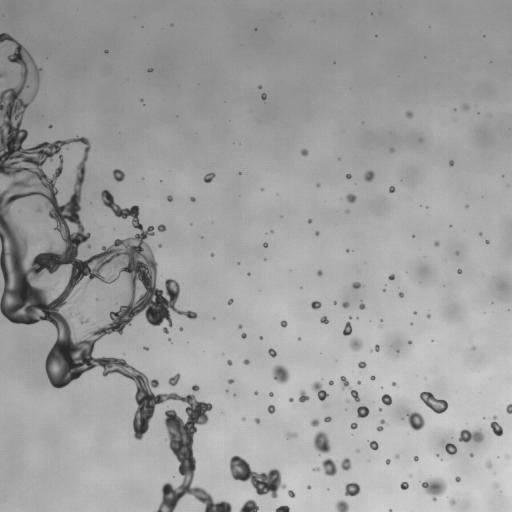droplet: (421, 477, 446, 501), (420, 392, 447, 413), (313, 431, 330, 454), (406, 411, 424, 430), (272, 364, 289, 383), (321, 458, 337, 476), (238, 499, 258, 511), (345, 483, 360, 496), (349, 337, 362, 350), (76, 313, 89, 325), (169, 373, 180, 386), (335, 500, 348, 511), (113, 169, 124, 181), (203, 172, 215, 183), (298, 390, 309, 402), (357, 406, 369, 417), (444, 443, 456, 454), (340, 458, 351, 470), (381, 394, 392, 405), (364, 170, 374, 181), (346, 193, 356, 203), (369, 441, 378, 450), (311, 301, 321, 309), (268, 348, 276, 357), (267, 404, 275, 413), (320, 316, 328, 324), (400, 481, 408, 489), (310, 419, 319, 426), (352, 282, 362, 288), (286, 433, 296, 439), (35, 204, 42, 212), (157, 224, 165, 231), (358, 361, 366, 368), (342, 301, 349, 308), (280, 320, 287, 327), (372, 344, 379, 351), (350, 422, 357, 429), (288, 490, 295, 497), (506, 404, 511, 413), (0, 71, 7, 77), (406, 111, 412, 118), (301, 149, 308, 155), (389, 186, 395, 193), (359, 302, 365, 309), (192, 385, 199, 391), (324, 416, 331, 422), (486, 461, 492, 468), (227, 298, 233, 304), (449, 499, 455, 505), (261, 93, 266, 99), (167, 195, 172, 201), (317, 270, 322, 276), (163, 327, 168, 333), (243, 359, 249, 364), (377, 425, 382, 431), (455, 476, 460, 482), (463, 104, 468, 109), (346, 173, 351, 178), (434, 241, 439, 246), (389, 274, 394, 279), (241, 333, 246, 338), (370, 375, 375, 380), (255, 418, 260, 423), (380, 419, 385, 424), (413, 456, 418, 461), (449, 160, 453, 166), (313, 467, 319, 471), (190, 197, 195, 201), (263, 242, 267, 247), (399, 292, 403, 297), (227, 360, 231, 365), (228, 379, 233, 383), (329, 380, 333, 385), (289, 397, 293, 402), (386, 459, 390, 464), (315, 231, 319, 235), (457, 269, 461, 273), (238, 324, 242, 328), (144, 346, 148, 350), (392, 382, 396, 386), (269, 392, 273, 396), (147, 68, 152, 71), (390, 148, 393, 152), (316, 183, 319, 187), (308, 219, 311, 223), (485, 240, 489, 243), (408, 340, 411, 344), (307, 486, 311, 489), (105, 50, 108, 53), (258, 85, 261, 88), (346, 210, 349, 213), (158, 244, 161, 247), (210, 253, 213, 256), (333, 301, 336, 304), (427, 314, 430, 317), (179, 327, 182, 330), (357, 381, 360, 384), (254, 391, 257, 394), (470, 453, 473, 456), (395, 455, 398, 458), (494, 484, 497, 487), (96, 298, 100, 300), (456, 251, 458, 254), (414, 311, 416, 314), (298, 337, 300, 340), (472, 347, 475, 349), (379, 408, 381, 411), (389, 509, 392, 511), (49, 125, 51, 127), (88, 245, 90, 247), (346, 249, 348, 251), (260, 337, 262, 339), (346, 399, 348, 401), (242, 418, 244, 420), (506, 455, 508, 457)
ligament: (0, 33, 231, 511), (230, 455, 286, 498), (340, 376, 359, 401), (311, 381, 328, 401), (458, 429, 483, 442), (490, 416, 502, 436), (343, 319, 351, 335), (275, 505, 289, 511)
